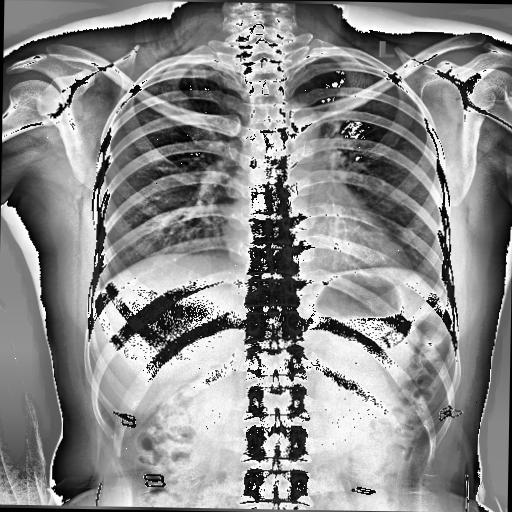13- Pulmonary fibrosis: (180, 56, 230, 118), (184, 63, 210, 107), (188, 66, 210, 110)
3- Cardiomegaly: (222, 228, 416, 276)
